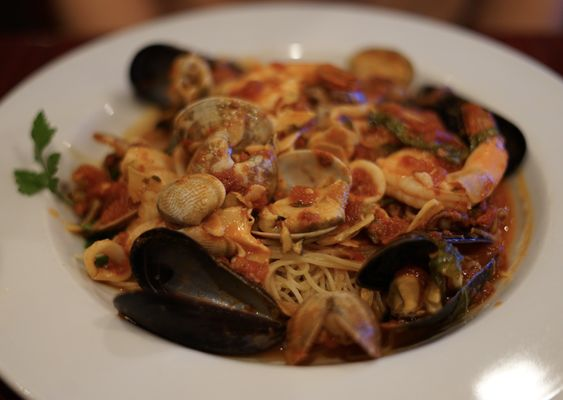salad: (120, 227, 287, 356)
